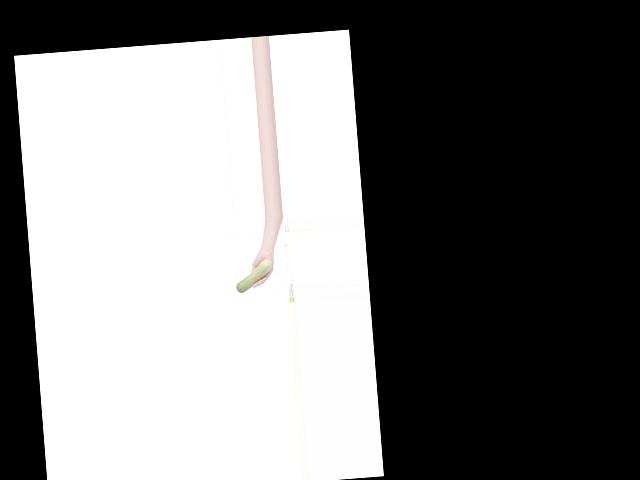cucumber: (235, 258, 273, 292)
